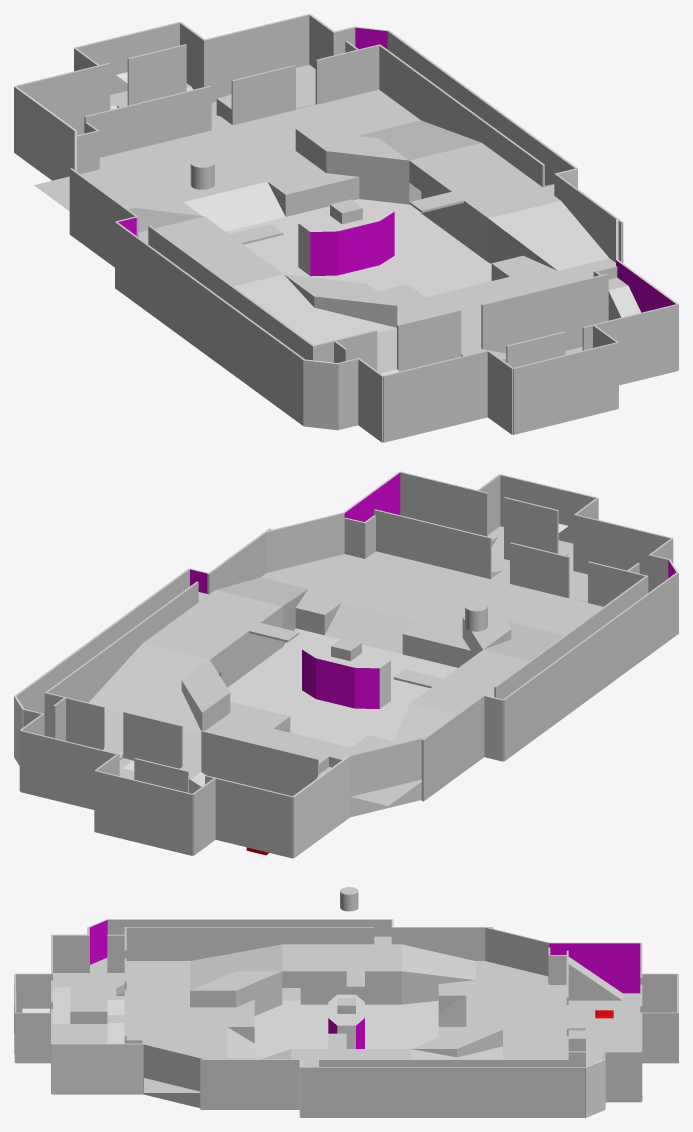
The model's file is NewMap1.glb.
The picture shows the model from 3 angles, top to bottom: view 1: azimuth 30°, elevation 25°; view 2: azimuth 150°, elevation 25°; view 3: azimuth 270°, elevation 25°; orthographic projection. The views are drawn at different scales.
Parts seen in each view (by area): view 1: Cube.034, Cube.010, Cube.040, Cube.035, Plane.004, Cube.065, Cube.057, Cube.058, Cube.059, Cube.032, Cube.070, Cube.012 (+29 smaller); view 2: Cube.034, Cube.059, Cube.040, Cube.035, Plane.004, Cube.002, Cube.010, Cube.021, Cube.012, Cube.058, Cube.011, Cube.070 (+24 smaller); view 3: Cube.035, Cube.029, Cube.010, Plane.004, Cube.059, Cube.038, Cube.033, Cube.034, Cube.063, Cube.007, Plane, Cube.006 (+21 smaller).
Boxes of the visible parts, bbox=[...] form: Cube.034: bbox=[254, 89, 608, 270]; Cube.010: bbox=[34, 120, 359, 231]; Cube.040: bbox=[115, 222, 304, 425]; Cube.035: bbox=[129, 208, 397, 373]; Plane.004: bbox=[226, 199, 491, 297]; Cube.065: bbox=[513, 342, 618, 434]; Cube.057: bbox=[383, 350, 489, 442]; Cube.058: bbox=[481, 273, 608, 353]; Cube.059: bbox=[377, 255, 615, 353]; Cube.032: bbox=[379, 44, 544, 186]; Cube.070: bbox=[298, 202, 394, 276]; Cube.012: bbox=[203, 14, 309, 102]; Cube.034: bbox=[89, 577, 307, 752]; Cube.059: bbox=[261, 551, 528, 667]; Cube.040: bbox=[503, 572, 678, 761]; Cube.035: bbox=[392, 588, 603, 744]; Plane.004: bbox=[227, 628, 457, 747]; Cube.002: bbox=[95, 770, 192, 855]; Cube.010: bbox=[182, 702, 421, 805]; Cube.021: bbox=[205, 775, 293, 858]; Cube.012: bbox=[21, 730, 119, 809]; Cube.058: bbox=[374, 509, 491, 578]; Cube.011: bbox=[201, 730, 318, 796]; Cube.070: bbox=[302, 641, 390, 709]; Cube.035: bbox=[126, 944, 475, 1015]; Cube.029: bbox=[300, 1067, 585, 1117]; Cube.010: bbox=[438, 961, 566, 1046]; Plane.004: bbox=[254, 1000, 438, 1059]; Cube.059: bbox=[126, 999, 254, 1092]; Cube.038: bbox=[125, 927, 374, 960]; Cube.033: bbox=[200, 1059, 301, 1109]; Cube.034: bbox=[261, 1029, 566, 1066]; Cube.063: bbox=[52, 1043, 143, 1094]; Cube.007: bbox=[53, 972, 124, 1023]; Plane: bbox=[568, 993, 640, 1051]; Cube.006: bbox=[549, 942, 640, 993].
Bounding box in the file's own units: 38.26 × 14 × 72.23.
